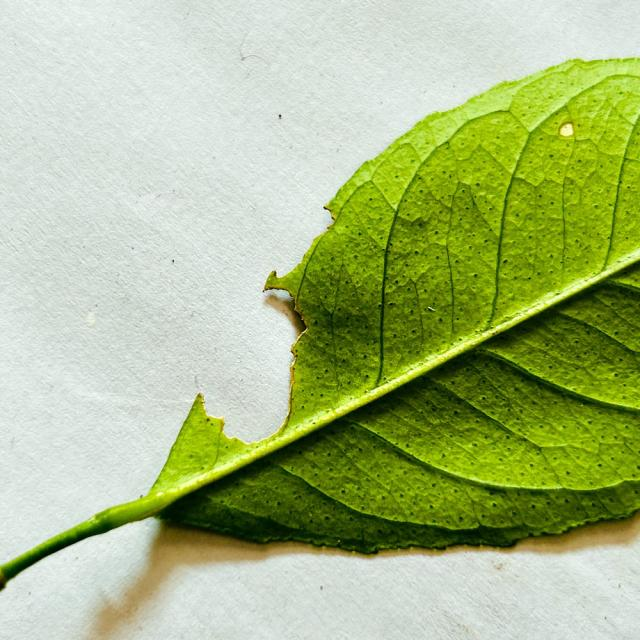Deficiency Leaf: (195, 301, 284, 442), (262, 226, 317, 275)
Lemon: (93, 58, 639, 550)
